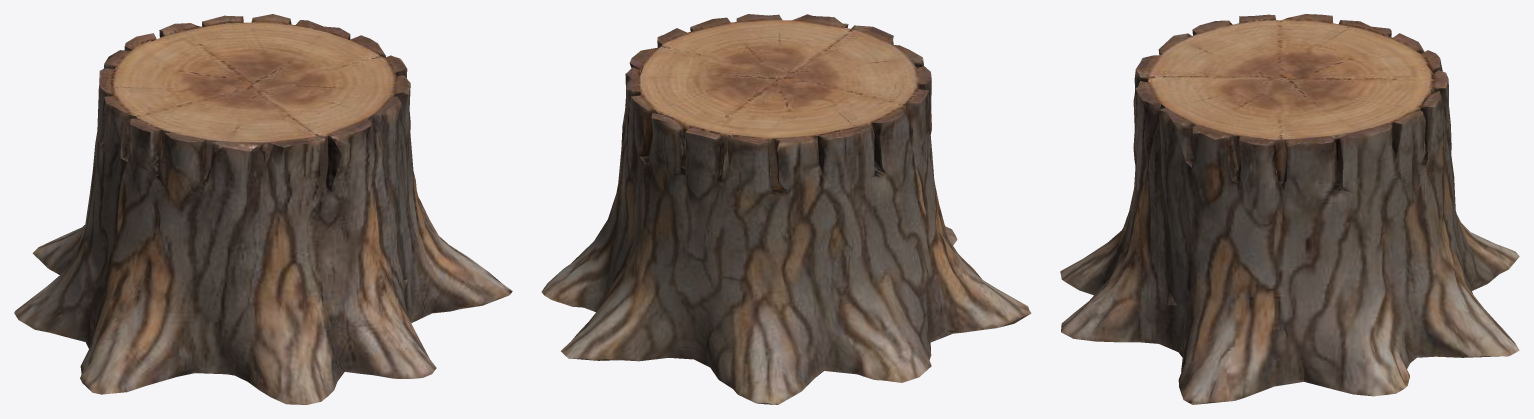
Rendered from stump_cut_lod0.glb.
3 views of the same model, side by side, from view 1: azimuth 30°, elevation 25°; view 2: azimuth 150°, elevation 25°; view 3: azimuth 270°, elevation 25° (orthographic).
Visible parts, largest first — view 1: stump_cut_lod0; view 2: stump_cut_lod0; view 3: stump_cut_lod0.
Part boxes in pixels (x1,y1,x2,y2): stump_cut_lod0: [14, 14, 512, 404]; stump_cut_lod0: [541, 14, 1031, 404]; stump_cut_lod0: [1060, 14, 1519, 404].
Bounding box in the file's own units: 1.36 × 0.7007 × 1.29.
1 material, 1 textured.
